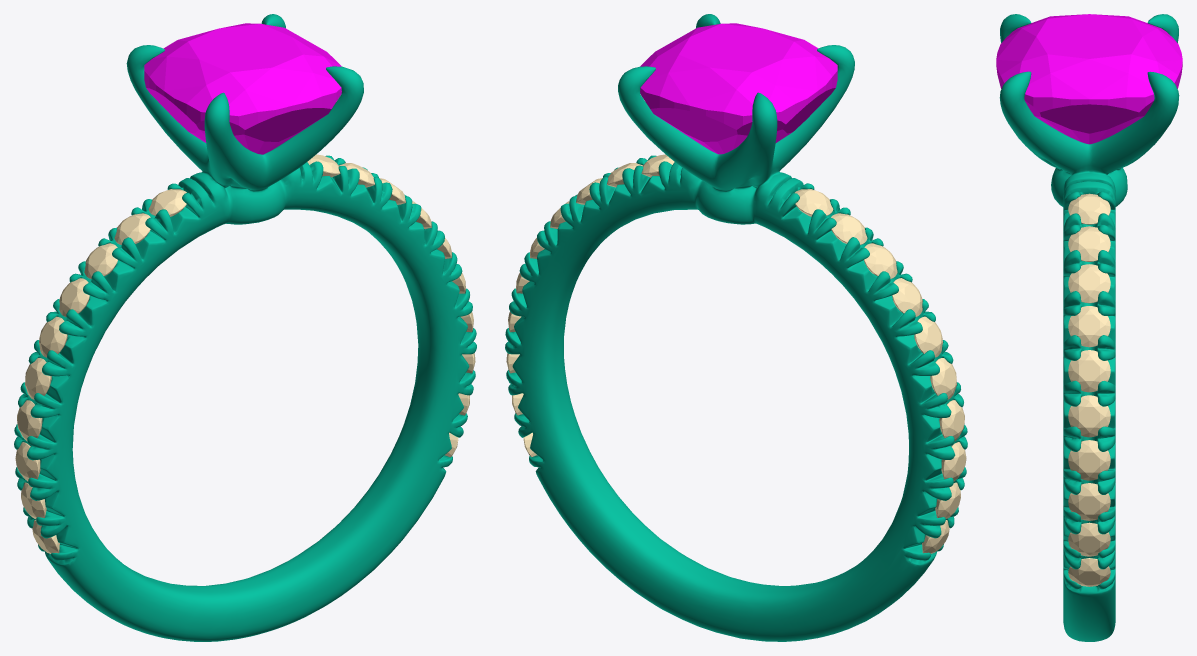
File: BE1D7162_CU_200ct_RENDER.glb
3 renders of one model, left to right at view 1: azimuth 30°, elevation 25°; view 2: azimuth 150°, elevation 25°; view 3: azimuth 270°, elevation 25°, orthographic.
Visible parts, largest first — view 1: Metal 01, CS_Diamond_Cushion, Diamond_Round_Gem_SH.003, Diamond_Round_Gem_SH.002, Diamond_Round_Gem_SH.001, Diamond_Round_Gem_SH.004, Diamond_Round_Gem_SH.005, Diamond_Round_Gem_SH, Diamond_Round_Gem_SH.006; view 2: Metal 01, CS_Diamond_Cushion, Diamond_Round_Gem_SH.003, Diamond_Round_Gem_SH.002, Diamond_Round_Gem_SH.004, Diamond_Round_Gem_SH.001, Diamond_Round_Gem_SH.005, Diamond_Round_Gem_SH, Diamond_Round_Gem_SH.006; view 3: Metal 01, CS_Diamond_Cushion, Diamond_Round_Gem_SH.014, Diamond_Round_Gem_SH.015, Diamond_Round_Gem_SH.013, Diamond_Round_Gem_SH.016, Diamond_Round_Gem_SH.012, Diamond_Round_Gem_SH.017, Diamond_Round_Gem_SH.011, Diamond_Round_Gem_SH.018, Diamond_Round_Gem_SH.010, Diamond_Round_Gem_SH.019.
Boxes of the visible parts, x1,y1,x2,y2 form: Metal 01: [14, 14, 476, 641]; CS_Diamond_Cushion: [144, 23, 341, 154]; Diamond_Round_Gem_SH.003: [59, 278, 89, 316]; Diamond_Round_Gem_SH.002: [84, 243, 117, 278]; Diamond_Round_Gem_SH.001: [114, 213, 150, 244]; Diamond_Round_Gem_SH.004: [39, 316, 67, 357]; Diamond_Round_Gem_SH.005: [25, 358, 51, 399]; Diamond_Round_Gem_SH: [148, 189, 186, 216]; Diamond_Round_Gem_SH.006: [17, 400, 42, 441]; Metal 01: [505, 14, 967, 641]; CS_Diamond_Cushion: [640, 23, 837, 154]; Diamond_Round_Gem_SH.003: [892, 278, 922, 316]; Diamond_Round_Gem_SH.002: [864, 243, 897, 278]; Diamond_Round_Gem_SH.004: [914, 316, 942, 357]; Diamond_Round_Gem_SH.001: [831, 213, 867, 244]; Diamond_Round_Gem_SH.005: [930, 358, 956, 399]; Diamond_Round_Gem_SH: [795, 189, 833, 216]; Diamond_Round_Gem_SH.006: [939, 400, 964, 441]; Metal 01: [999, 14, 1179, 641]; CS_Diamond_Cushion: [996, 14, 1182, 144]; Diamond_Round_Gem_SH.014: [1068, 350, 1110, 392]; Diamond_Round_Gem_SH.015: [1068, 395, 1110, 437]; Diamond_Round_Gem_SH.013: [1068, 306, 1110, 347]; Diamond_Round_Gem_SH.016: [1068, 440, 1110, 480]; Diamond_Round_Gem_SH.012: [1068, 264, 1110, 303]; Diamond_Round_Gem_SH.017: [1068, 483, 1110, 520]; Diamond_Round_Gem_SH.011: [1068, 226, 1110, 261]; Diamond_Round_Gem_SH.018: [1068, 522, 1110, 556]; Diamond_Round_Gem_SH.010: [1068, 193, 1110, 224]; Diamond_Round_Gem_SH.019: [1068, 558, 1110, 586].
Bounding box in the file's own units: 20.75 × 25.79 × 7.5.
